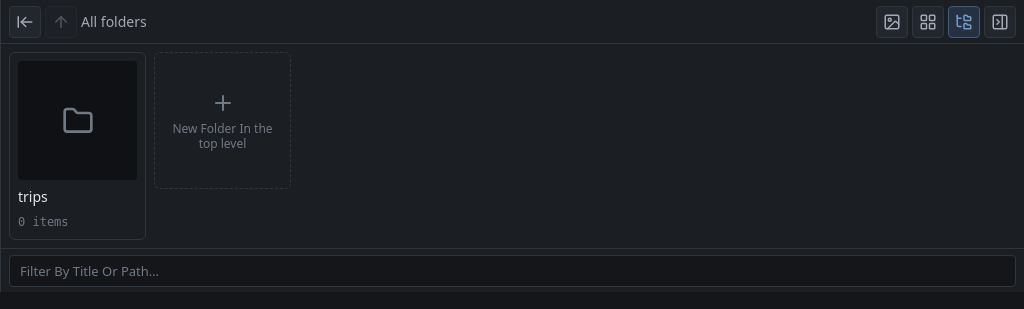
drilling versus opening › single click drills in without moving the main grid
Click the text "trips". click: (33, 196)
box: [18,187,48,206]
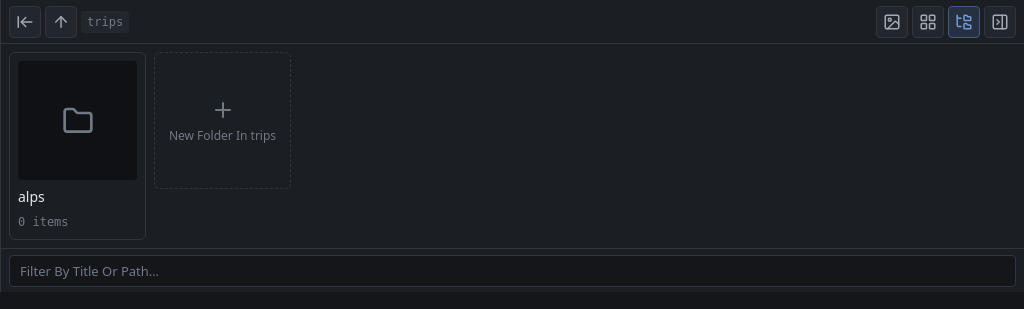
Result: the text "alps" is shown at [18,187,45,206]
